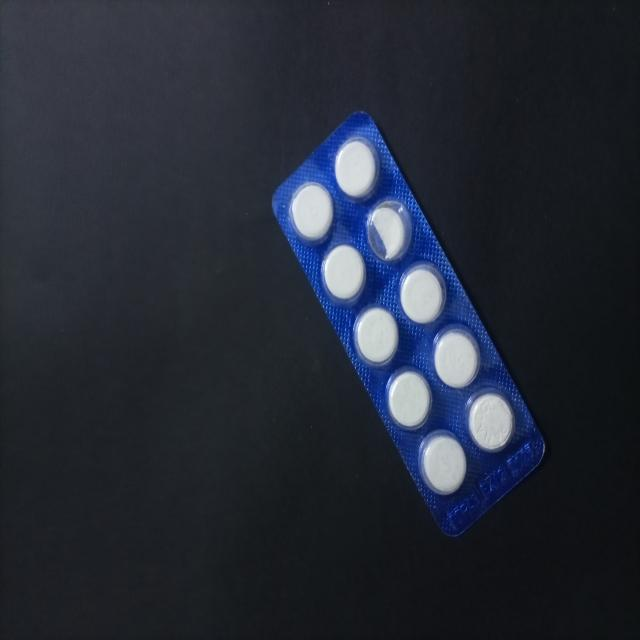defect: (365, 198, 416, 264)
